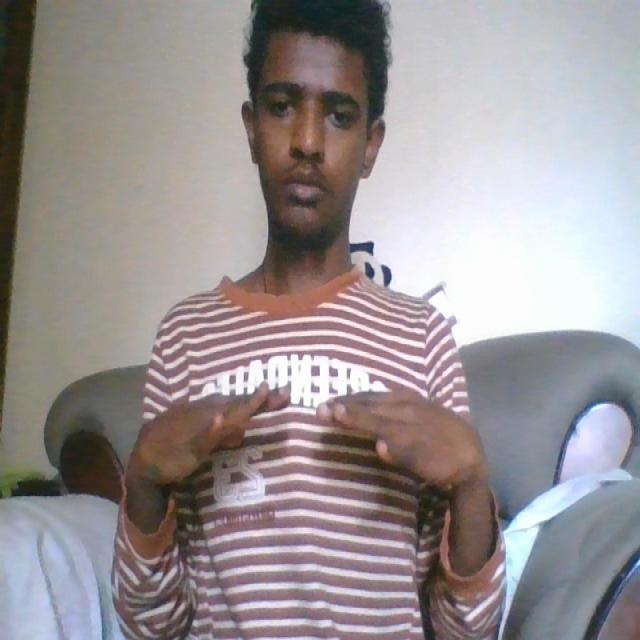meznanat: (140, 379, 467, 490)
